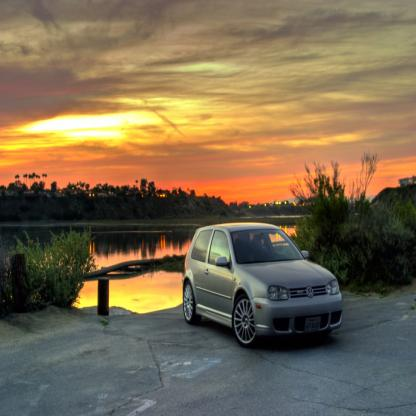Car: (176, 221, 345, 352)
